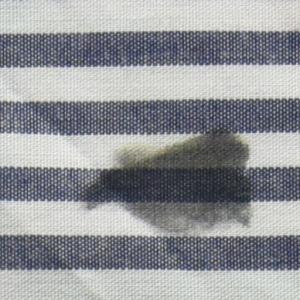Stain: (81, 123, 261, 239)
Wrinkle: (8, 82, 228, 288), (1, 221, 111, 300)
